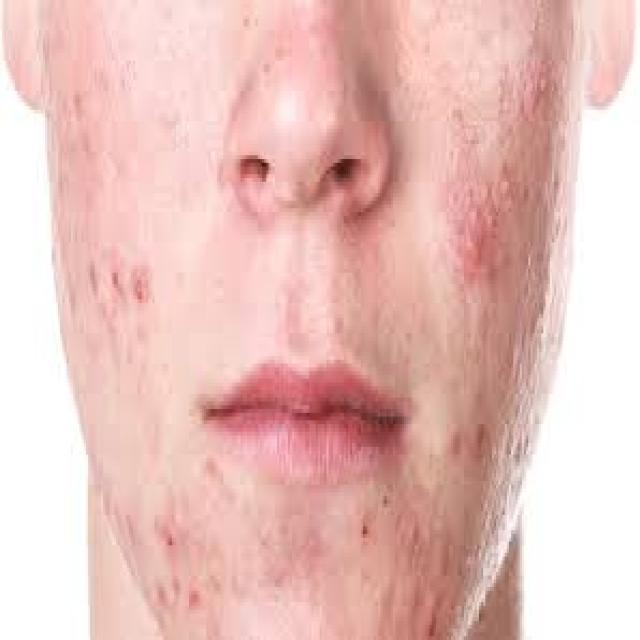Acne: (460, 202, 502, 283), (529, 50, 558, 117), (396, 508, 428, 558), (418, 590, 449, 640), (159, 513, 186, 569), (131, 254, 154, 312), (106, 249, 126, 307), (497, 158, 518, 213), (353, 504, 376, 554), (472, 412, 494, 463), (445, 414, 465, 467), (183, 575, 206, 619)
